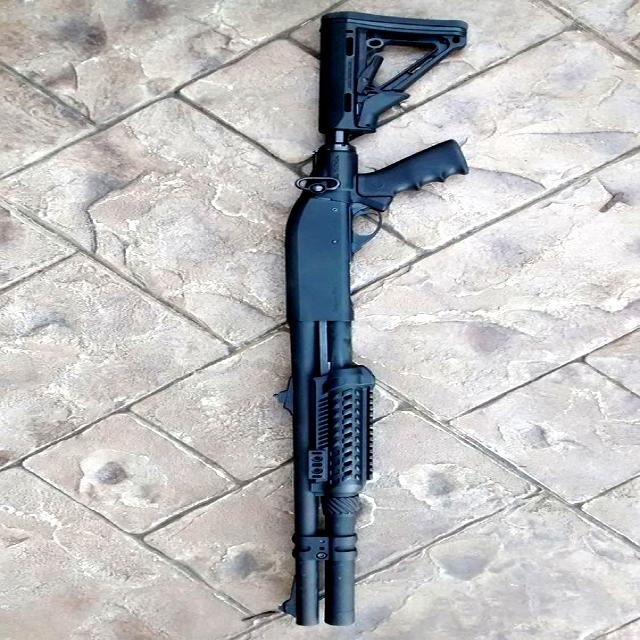shotgun: (270, 0, 495, 640)
